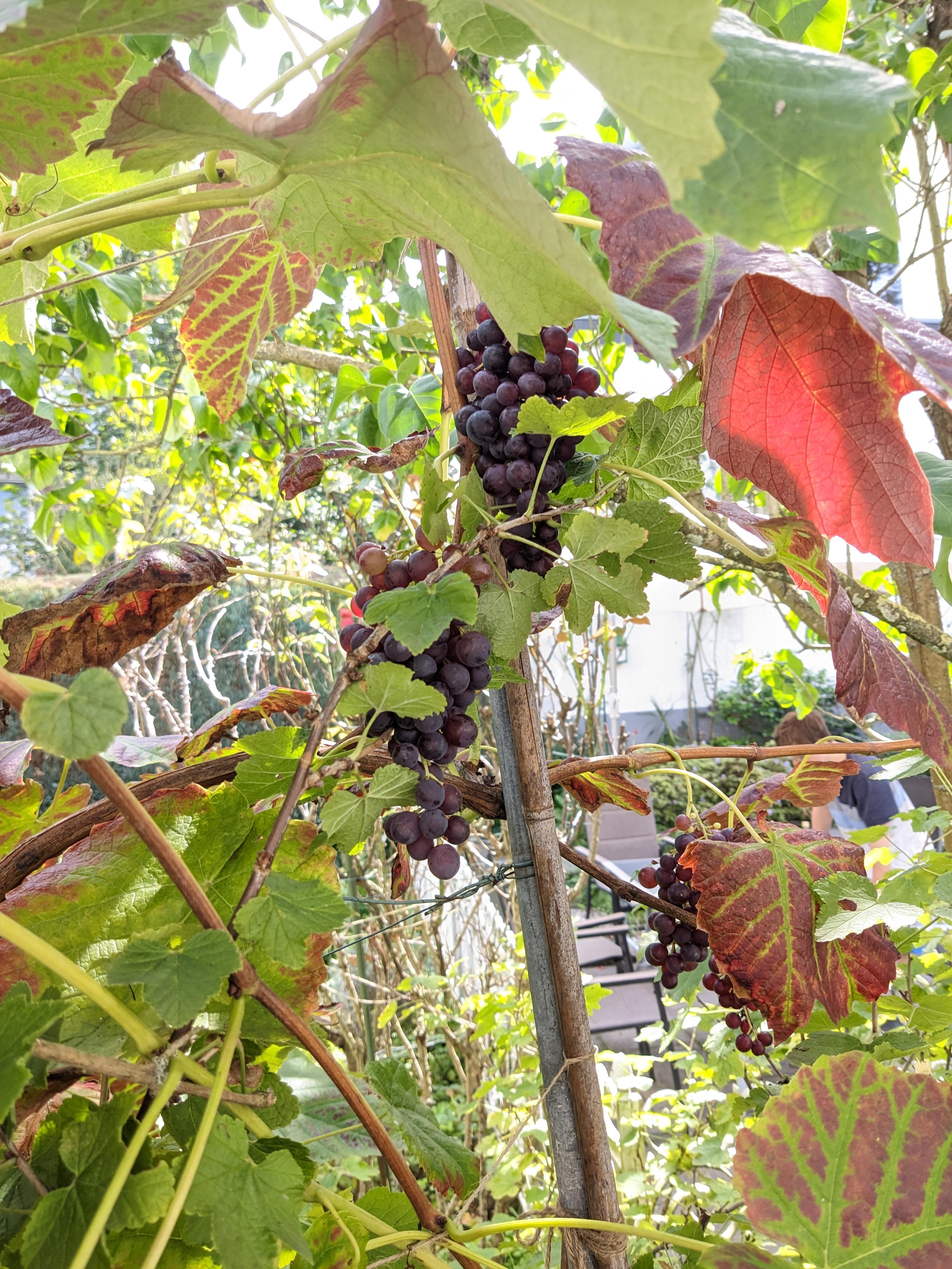Grape Ripe: (338, 525, 490, 879), (450, 301, 603, 570), (639, 812, 710, 992), (703, 954, 774, 1056)
